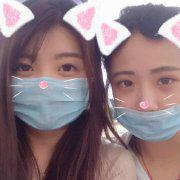OK: (8, 49, 90, 131)
WRONG: (109, 65, 180, 137)
